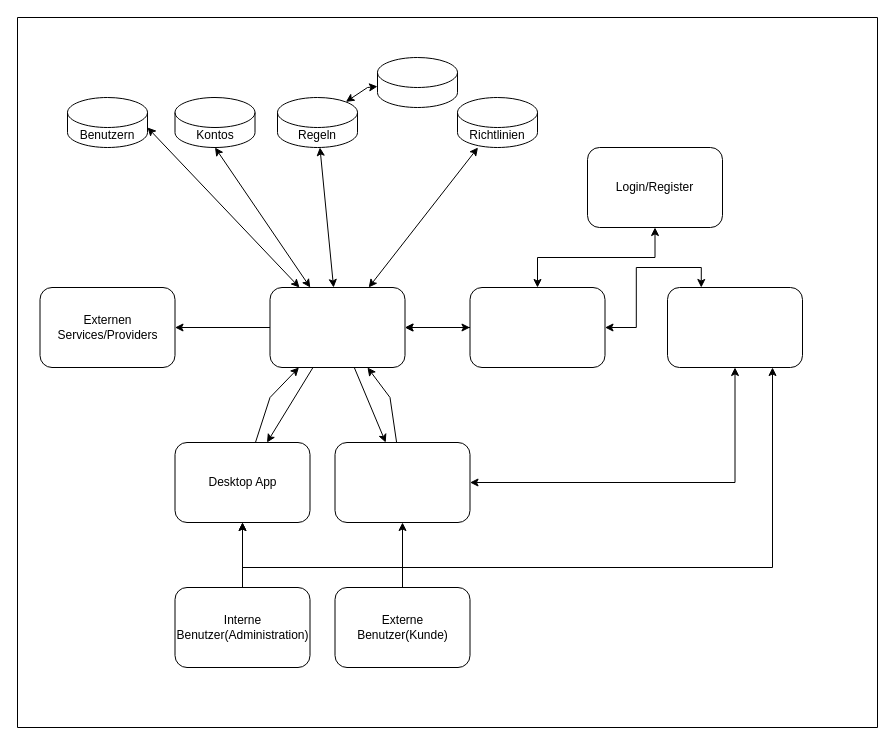
This 895x745 diagram has some shape labels left out. Here are the shapes that lost their labels. From the top down, the centre of each, then its label:
At point (417, 82): "Artikeln".
At point (337, 327): "Infrastraktur".
At point (537, 327): "Interne Services/Providers".
At point (734, 327): "Logik/Regeln".
At point (402, 482): "Web Applikation".
